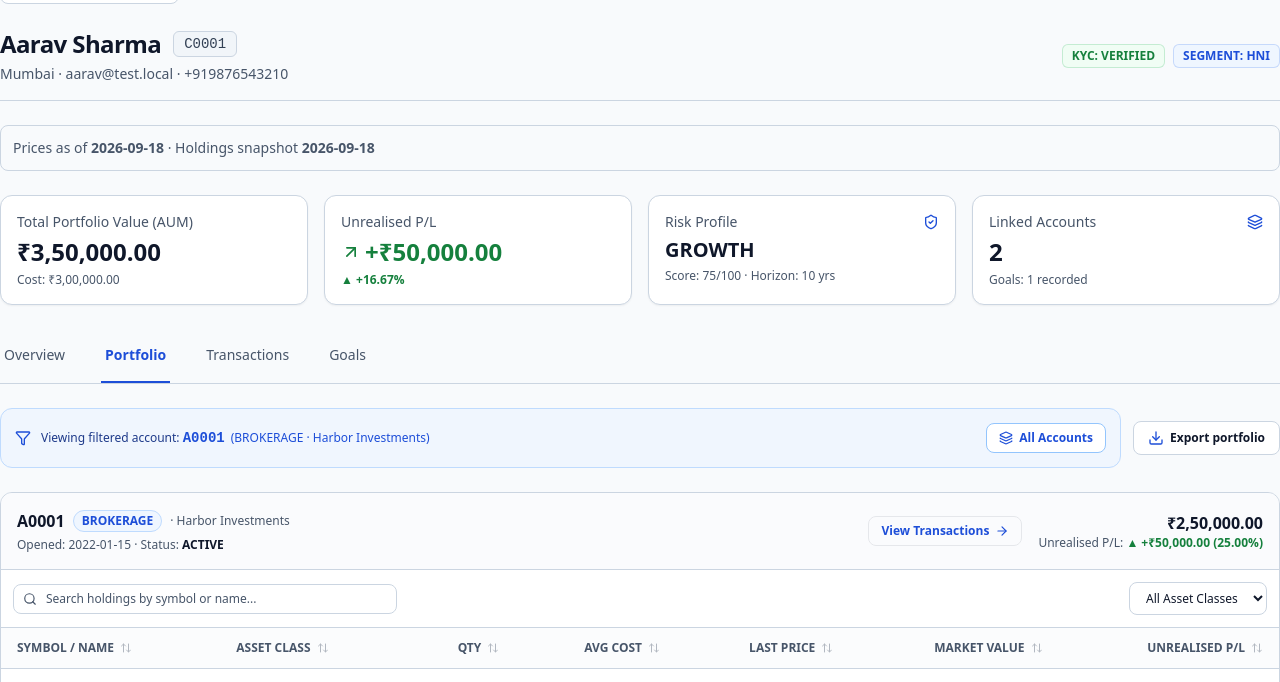
CustomerOverviewPage route query params and preselection › resets to all accounts when "All Accounts" reset button is clicked
Expected: the text "Viewing filtered account:" is shown, [41, 429, 183, 446]
Click the button "All Accounts". click: (1046, 438)
box: [986, 423, 1106, 453]
(page scrolled)
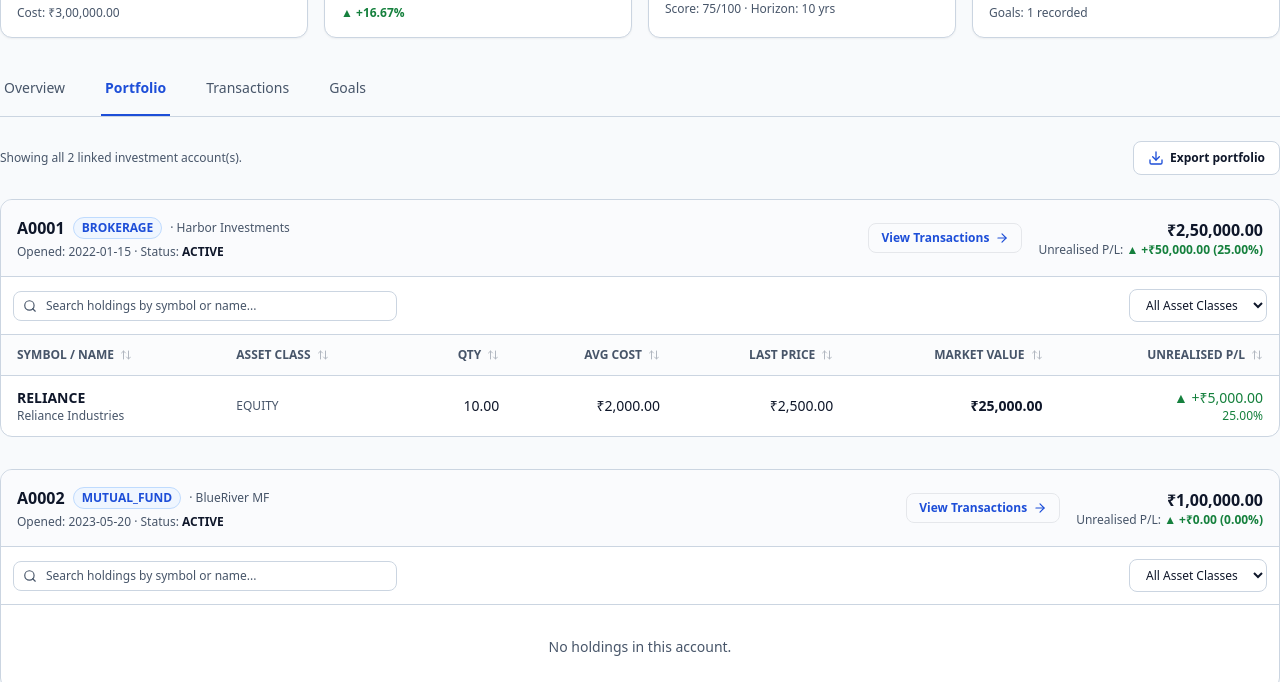
Expected: the text "Viewing filtered account:" is gone
Expected: the text "A0002" is shown, [17, 486, 65, 510]
